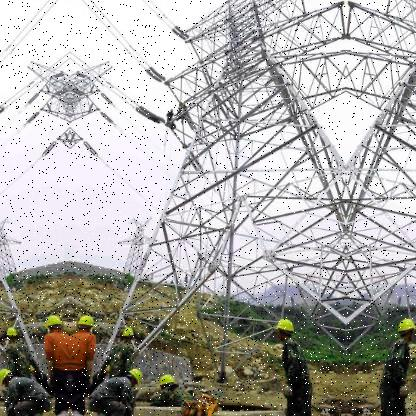Helmet: (277, 318, 303, 340), (0, 357, 15, 387), (398, 321, 415, 346), (158, 373, 176, 392), (46, 317, 64, 334), (127, 361, 140, 382), (76, 318, 94, 333), (5, 325, 20, 341), (122, 329, 136, 343)
